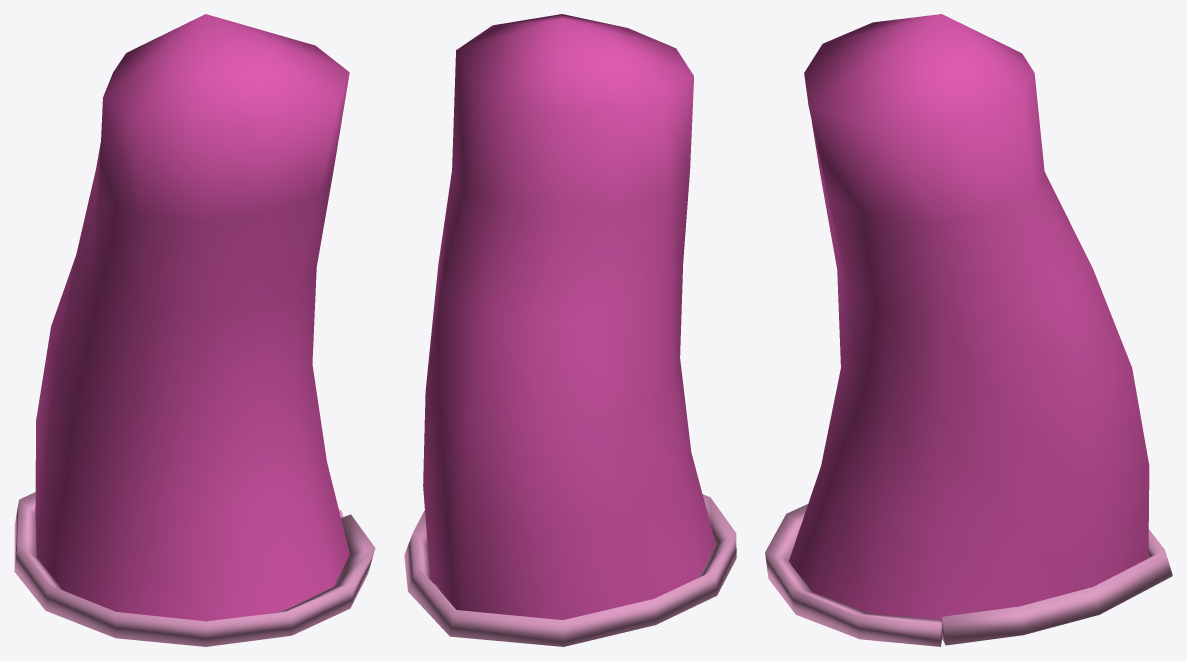
Rendered from orichalcum_armor_boot.L.glb.
The picture shows the model from 3 angles, left to right: view 1: azimuth 30°, elevation 25°; view 2: azimuth 150°, elevation 25°; view 3: azimuth 270°, elevation 25°; orthographic projection. The views are drawn at different scales.
Parts seen in each view (by area): view 1: orichalcum_armor_boot.L; view 2: orichalcum_armor_boot.L; view 3: orichalcum_armor_boot.L.
Part boxes in pixels (bbox=[...]): orichalcum_armor_boot.L: bbox=[14, 14, 375, 646]; orichalcum_armor_boot.L: bbox=[404, 14, 736, 646]; orichalcum_armor_boot.L: bbox=[765, 14, 1172, 646].
Bounding box in the file's own units: 0.1684 × 0.2958 × 0.1934.
